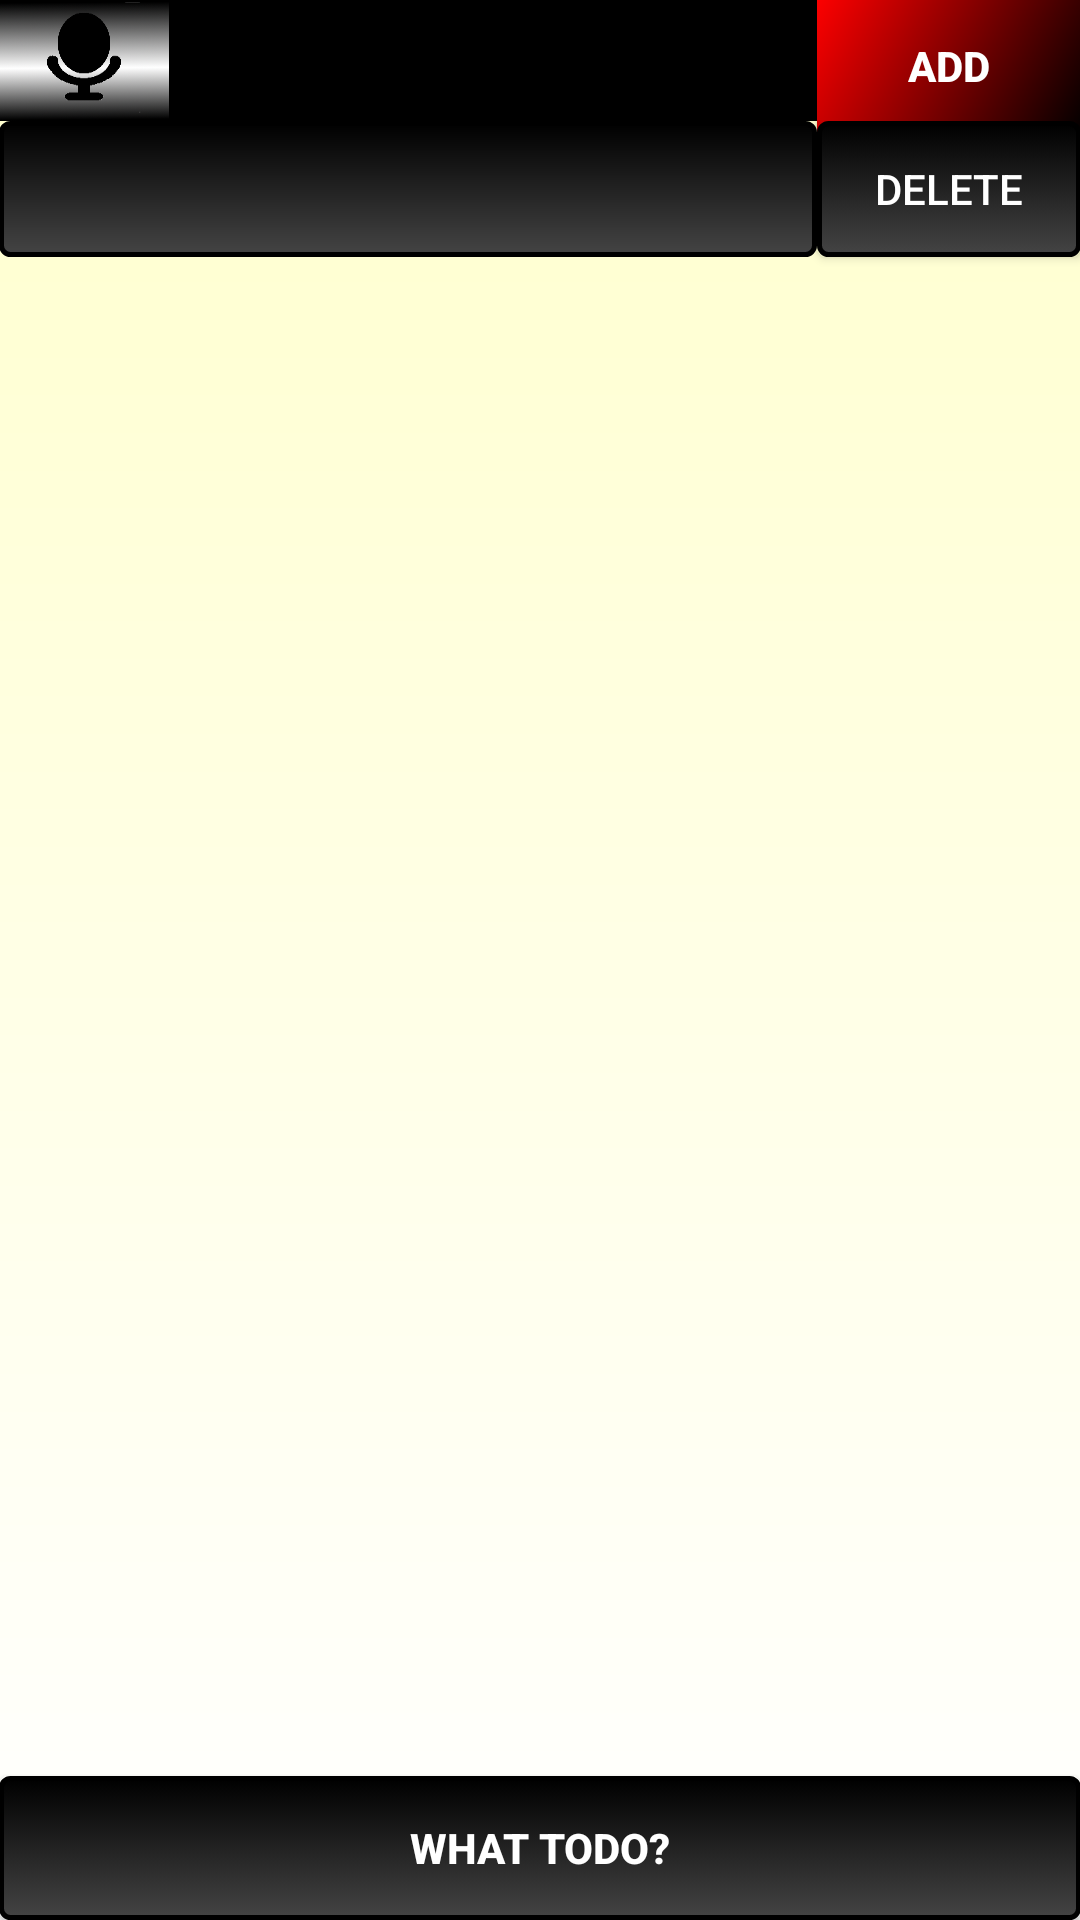

Icons on this 1080 x 1920 Android screen, each with its box as (x1, y1, x2, y2):
stt mic: (0, 2, 169, 115)
